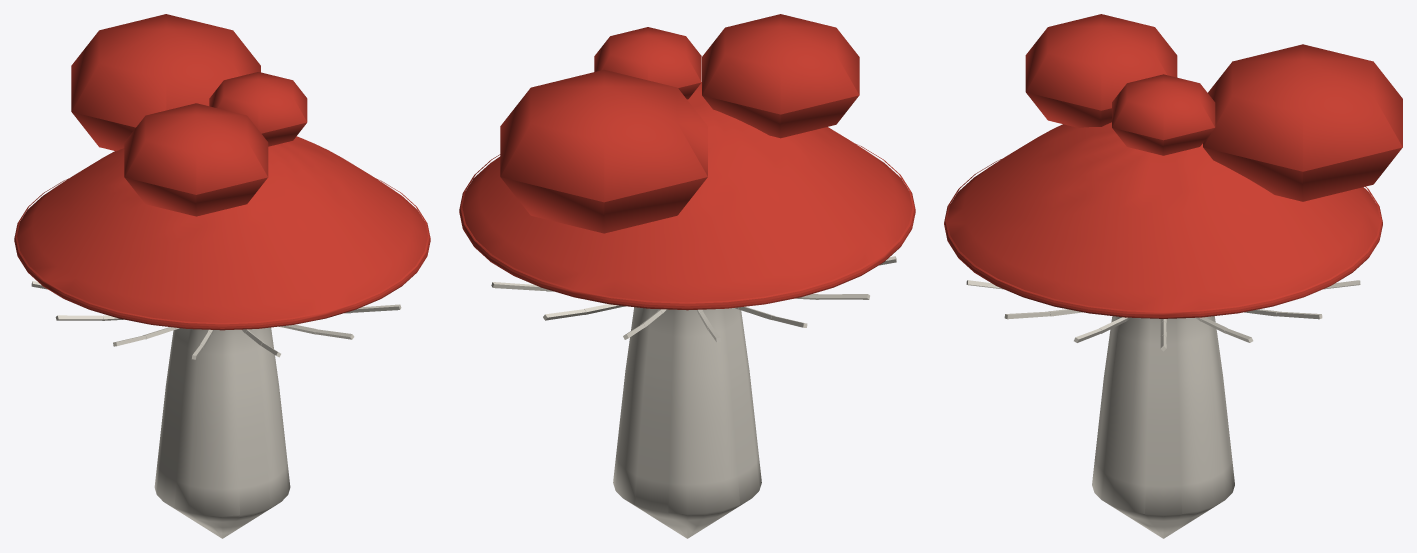
Rendered from mushroom-red.glb.
3 views of the same model, side by side, from view 1: azimuth 30°, elevation 25°; view 2: azimuth 150°, elevation 25°; view 3: azimuth 270°, elevation 25° (orthographic). The views are drawn at different scales.
Parts seen in each view (by area): view 1: mushroom-red-cap, mushroom-red, mushroom-red-gills; view 2: mushroom-red-cap, mushroom-red, mushroom-red-gills; view 3: mushroom-red-cap, mushroom-red, mushroom-red-gills.
Part boxes in pixels (left/top/right/bottom): mushroom-red-cap: left=14, top=14, right=430, bottom=330; mushroom-red: left=154, top=327, right=290, bottom=538; mushroom-red-gills: left=31, top=281, right=401, bottom=359; mushroom-red-cap: left=459, top=14, right=915, bottom=310; mushroom-red: left=613, top=307, right=761, bottom=538; mushroom-red-gills: left=491, top=256, right=896, bottom=342; mushroom-red-cap: left=944, top=14, right=1402, bottom=318; mushroom-red: left=1092, top=316, right=1234, bottom=538; mushroom-red-gills: left=966, top=280, right=1360, bottom=351.
Bounding box in the file's own units: 0.2207 × 0.2687 × 0.2307.
